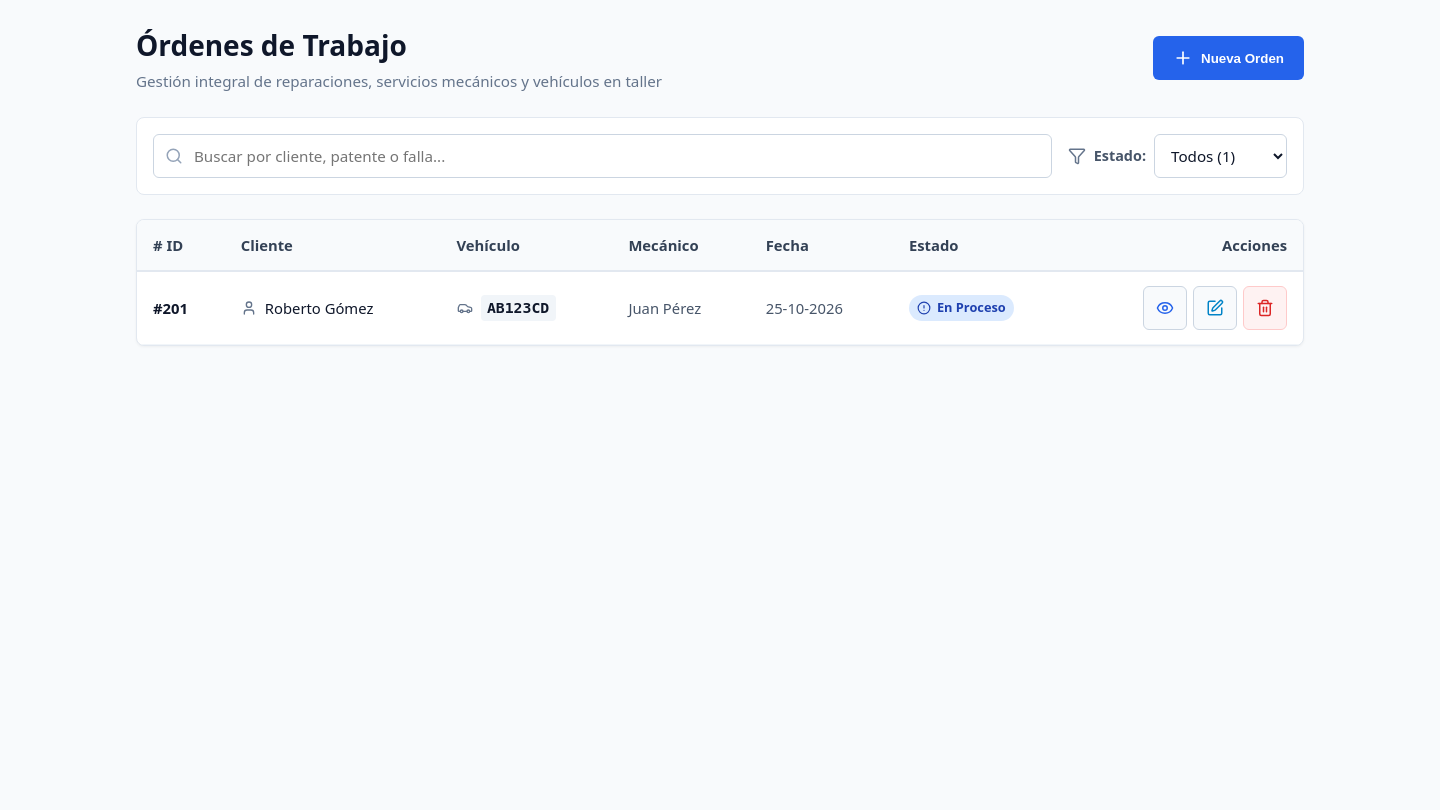
Test: E2E Full Flow Integration Test: Login -> Listar Recurso -> Crear / Gestionar Orden › debe completar el flujo integral de negocio: listar orden en tabla y consultar detalle
This screenshot has width=1440, height=810.
Expected: the text "Roberto Gómez" is shown, 265,297 -> 373,319
Expected: the text "AB123CD" is shown, 480,295 -> 556,321
Abrir modal de detalle
Click the button named "ver detalle de orden #201". click: click(1165, 308)
box: 1143,286 -> 1187,330
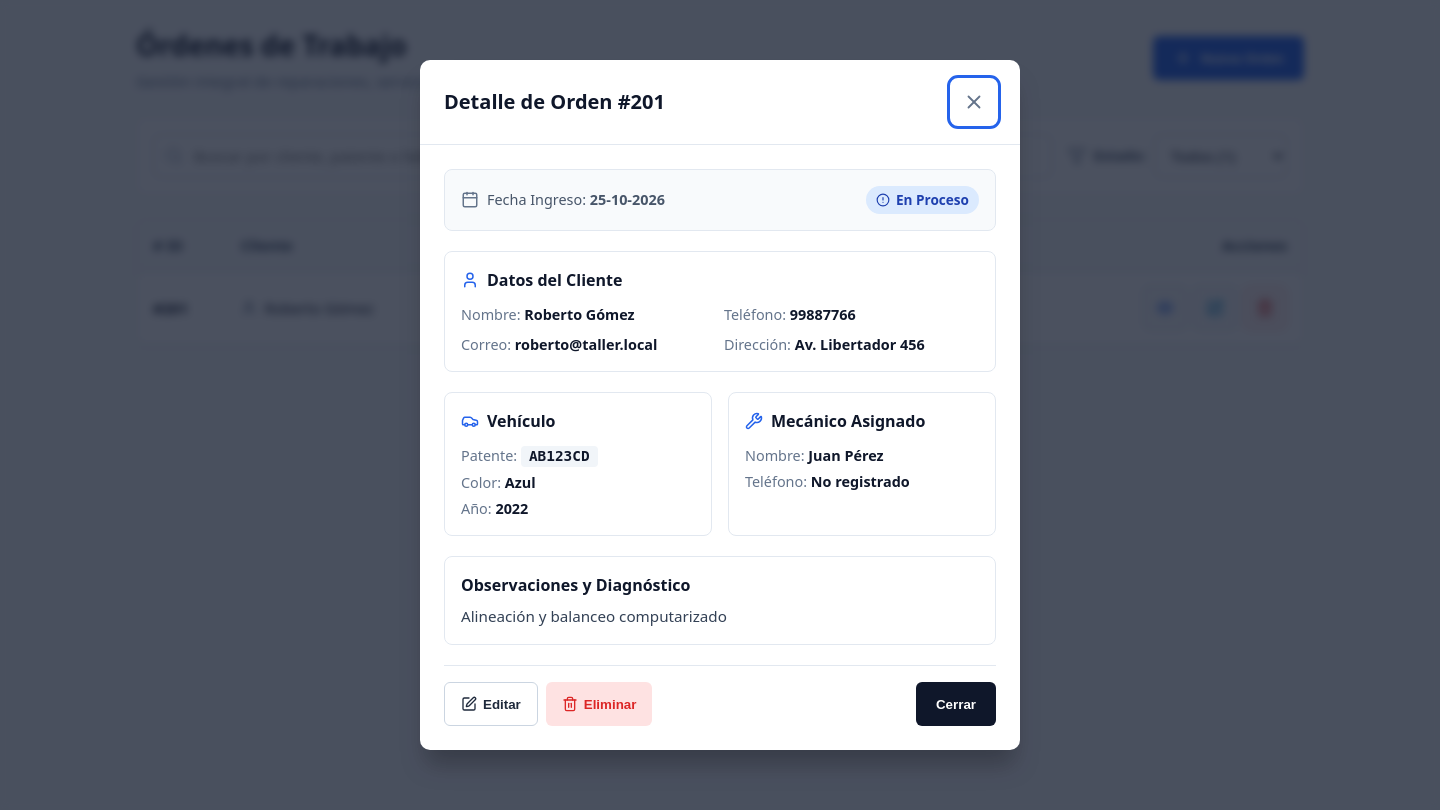
Expected: the dialog is shown, 420,60 -> 1020,750
Expected: the heading "Detalle de Orden #201" is shown, 444,87 -> 665,117
Expected: the text "Alineación y balanceo computarizado" is shown, 461,606 -> 727,626
